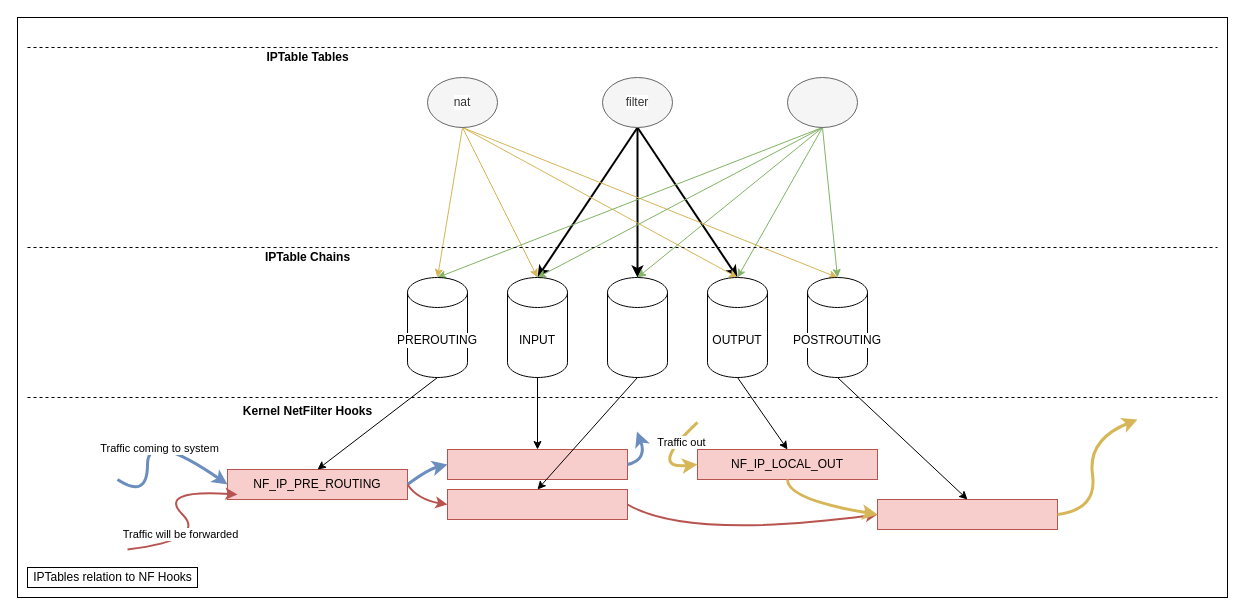
The diagram is 1245 pixels wide and 615 high, and some of its shapes have lost their labels. Here are the shapes that lost their labels. From the top down, the box of each, then its label:
(786, 76, 858, 128): mangle
(606, 276, 668, 378): FORWARD
(446, 448, 628, 480): NF_IP_LOCAL_IN
(446, 488, 628, 520): NF_IP_FORWARD
(876, 498, 1058, 530): NF_IP_POST_ROUTING
